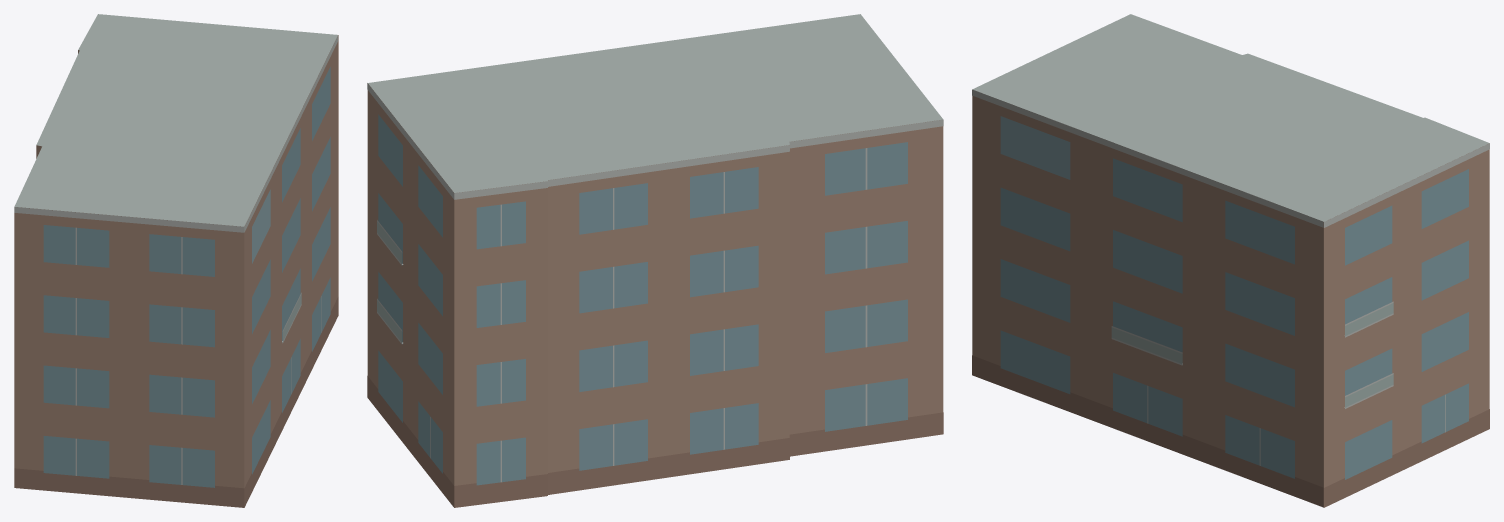
File: survey-upis-33030927.glb
The picture shows the model from 3 angles, left to right: view 1: azimuth 30°, elevation 25°; view 2: azimuth 150°, elevation 25°; view 3: azimuth 270°, elevation 25°; orthographic projection. The views are drawn at different scales.
Parts seen in each view (by area): view 1: survey-upis-33030927.tmp; view 2: survey-upis-33030927.tmp; view 3: survey-upis-33030927.tmp.
Part boxes in pixels (<box>): survey-upis-33030927.tmp: <box>14,14,338,507</box>; survey-upis-33030927.tmp: <box>367,14,943,507</box>; survey-upis-33030927.tmp: <box>972,14,1489,507</box>.
Bounding box in the file's own units: 17.76 × 11.37 × 18.67.
